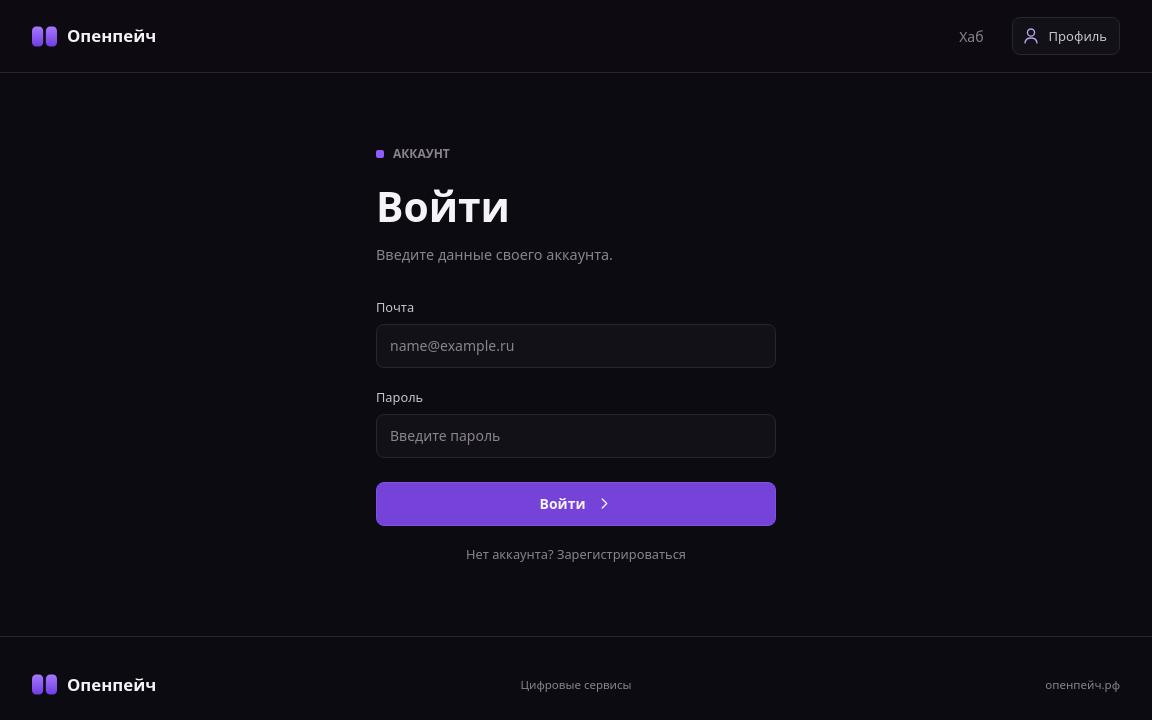
Scenario: авторизация и маршруты › возвращает на /profile после входа с защищённого маршрута
expect the heading "Войти" is shown: met, box [376,178,510,234]
Step 1. Type "anna@example.ru" into the field labelled "Почта" → (576, 346), box [376,324,776,368]
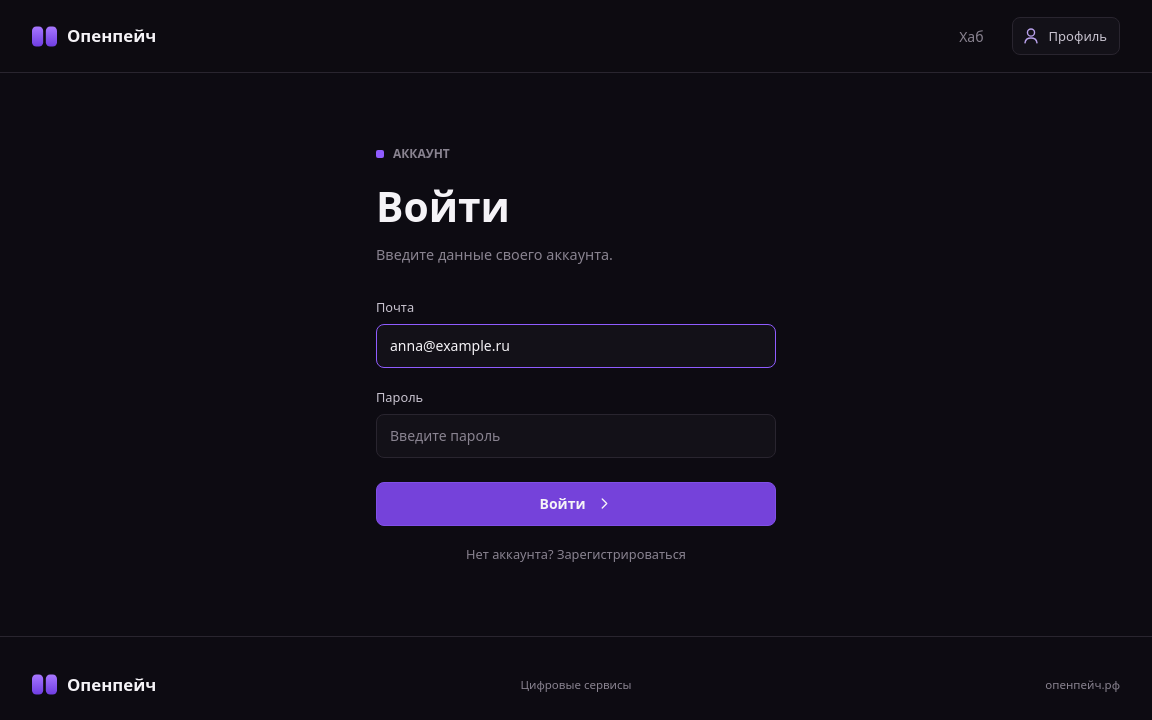
Step 2. Type "secret-password" into the password field labelled "Пароль" → (576, 436), box [376,414,776,458]
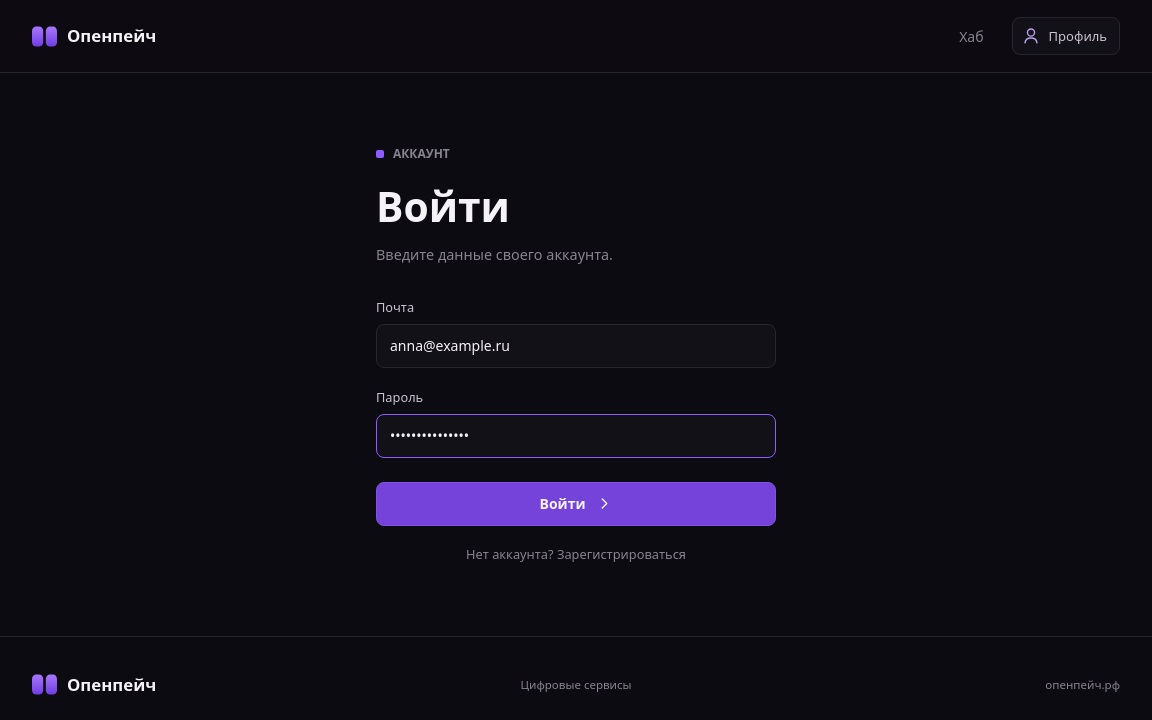
Step 3. Click the button "Войти" → (576, 504), box [376,482,776,526]
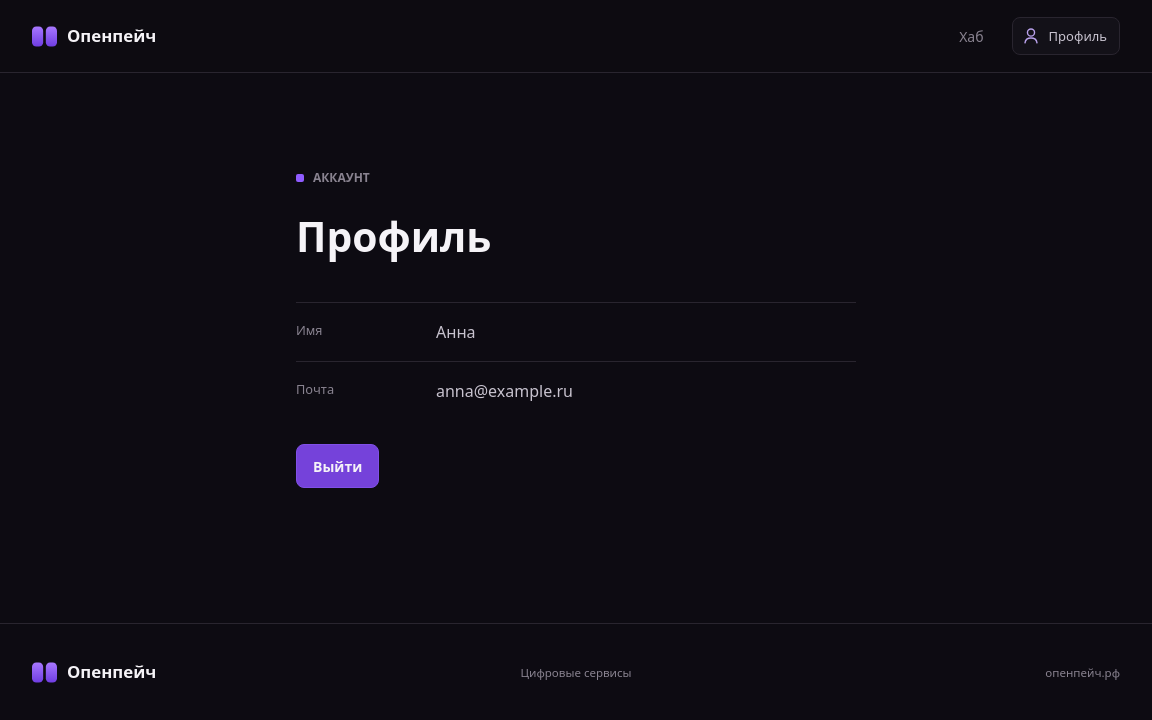
expect the heading "Профиль" is shown: met, box [296,208,491,264]
expect the text "Анна" is shown: met, box [436,321,476,343]
expect the text "anna@example.ru" is shown: met, box [436,380,573,402]
